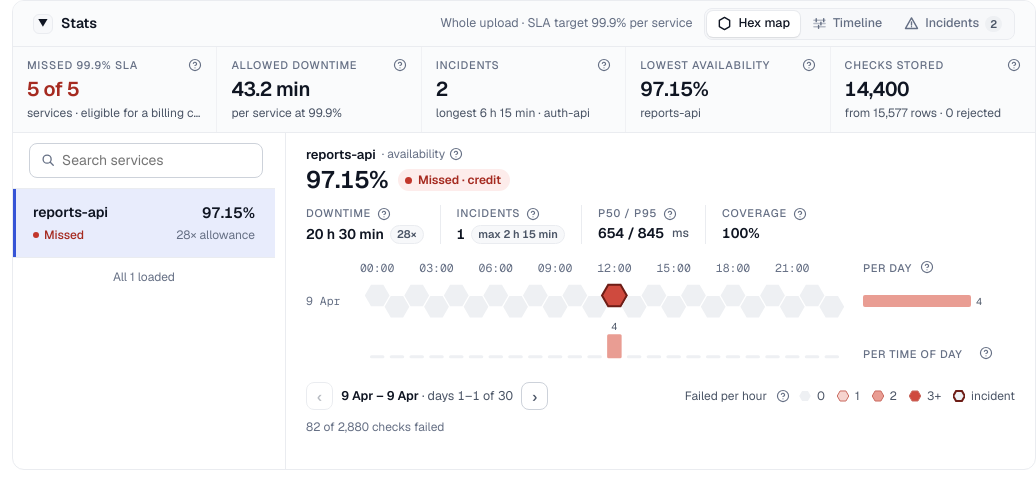
Stats panel › stat strip: the five numbers, with explanations from this upload
The image size is (1036, 487).
Expected: the text "5 of 5" is shown, [27, 76, 79, 102]
Expected: the text "43.2 min" is shown, [231, 76, 310, 102]
Click the button named "Allowed downtime: how it is calculated": (400, 65) [386, 51, 414, 79]
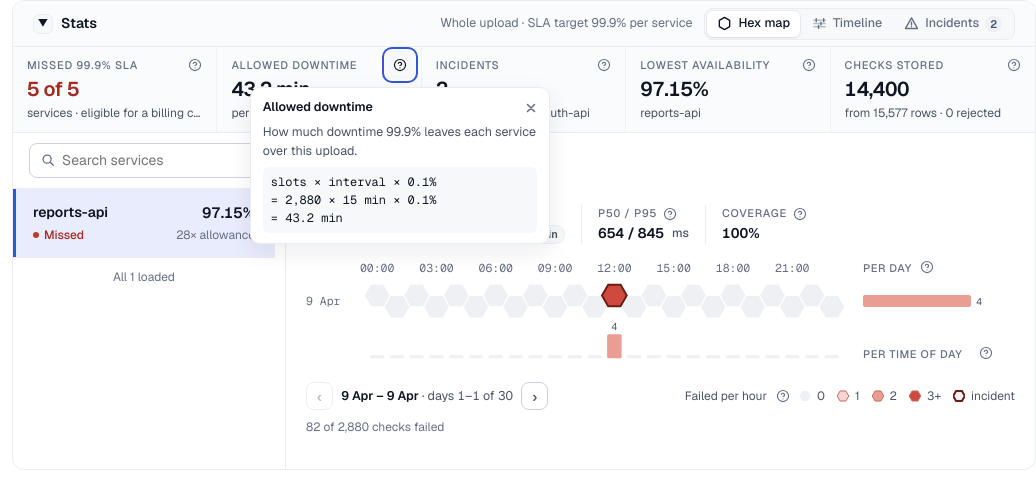
Result: the tooltip shows "= 2,880 × 15 min × 0.1%" at [271, 174, 436, 226]
Click the button named "Checks stored: how it is calculated": (1014, 65) [1000, 51, 1028, 79]
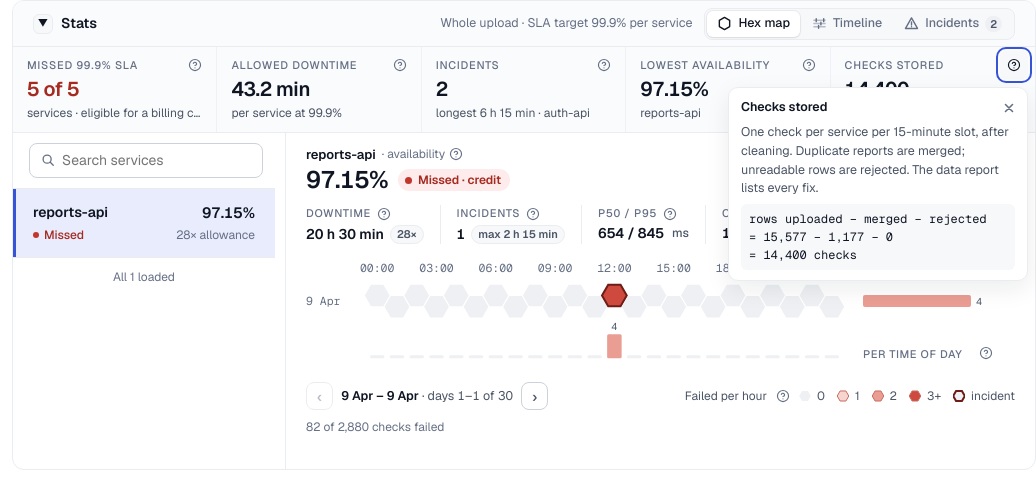
Result: the tooltip shows "= 15,577 − 1,177 − 0" at [749, 211, 987, 263]
